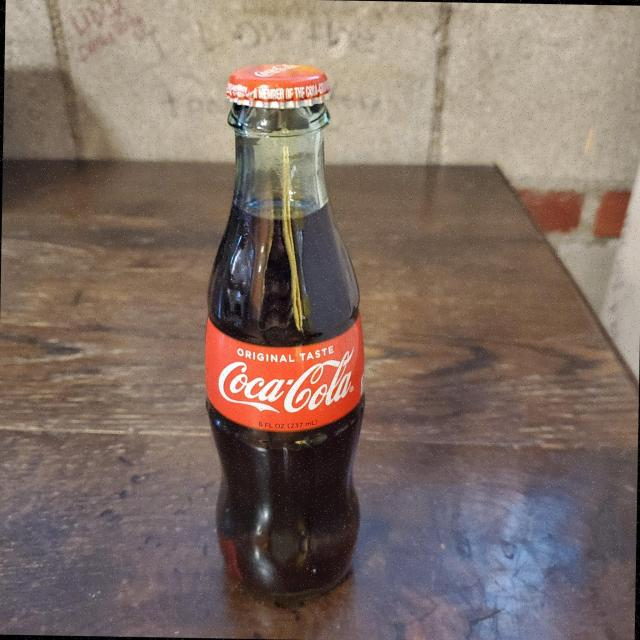coca-cola: (194, 54, 376, 603)
